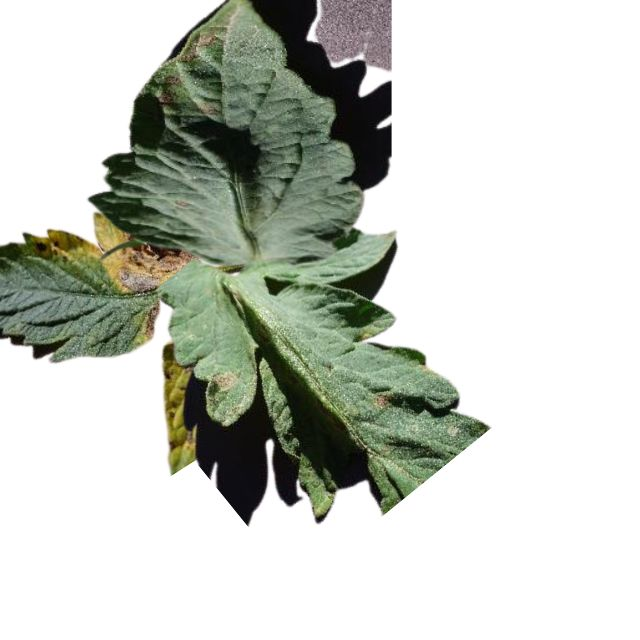Early_blight: (112, 228, 196, 294), (178, 32, 217, 62), (157, 73, 182, 103), (142, 299, 166, 330), (166, 428, 194, 452), (30, 232, 54, 256), (214, 370, 240, 392), (372, 390, 397, 408)
